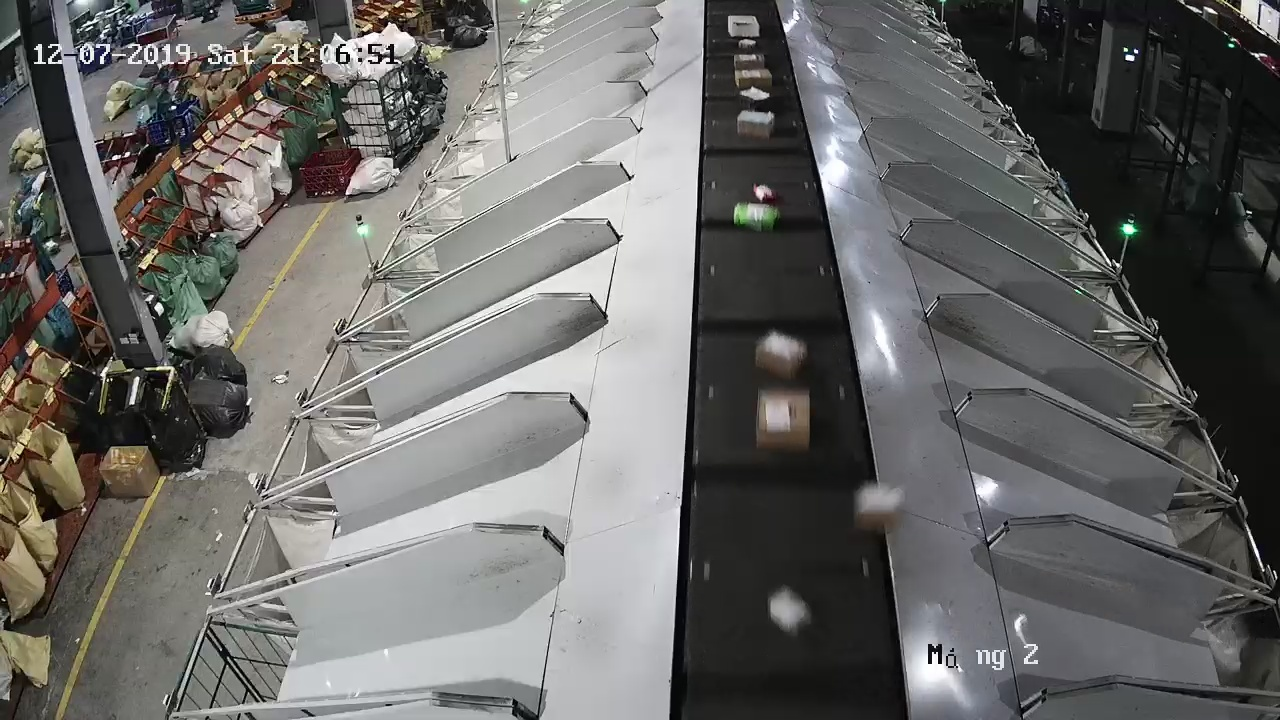parcel: (851, 479, 908, 532)
